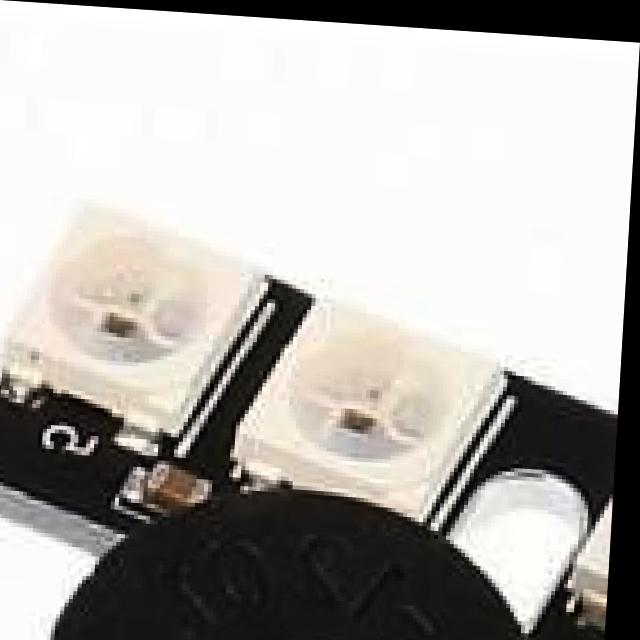LED: (250, 258, 545, 509), (0, 164, 272, 435), (576, 408, 622, 626)
buzzer: (18, 471, 546, 640)
capacitor: (122, 432, 216, 532)
